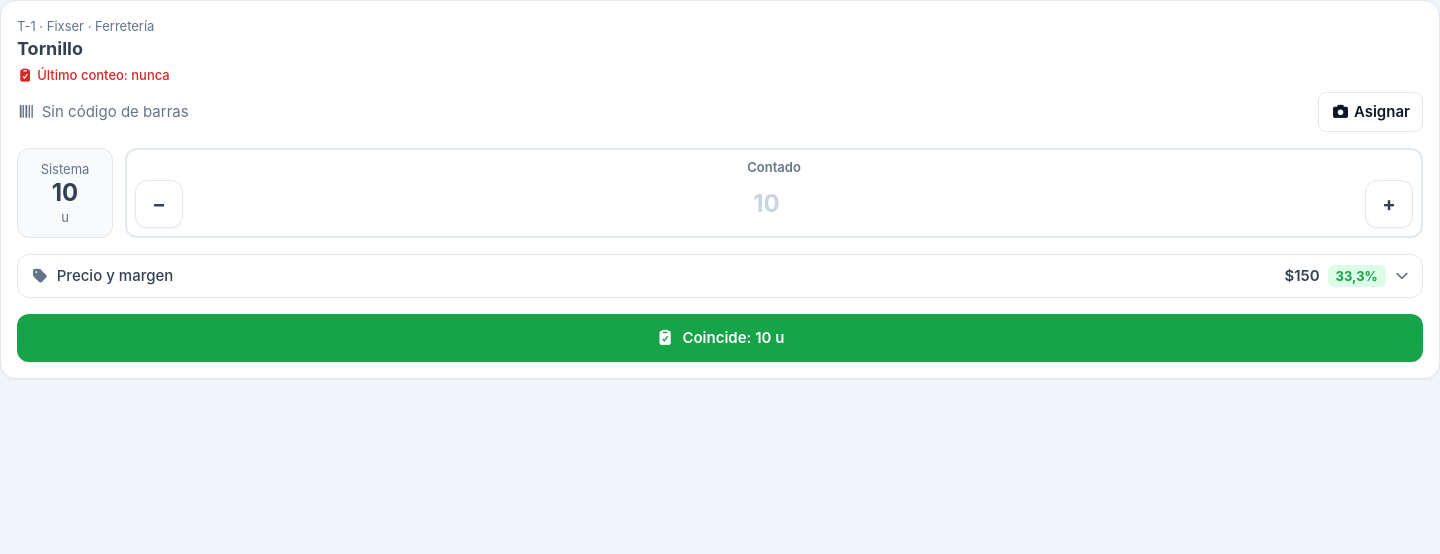
Test case: components/ProductoCard › guardar() › después de guardar el precio, muestra lo que persistió el backend y deja de haber cambios
This screenshot has width=1440, height=554.
Click the button "Precio y margen $150 33,3%" at (115, 276), box [18, 255, 1422, 297]
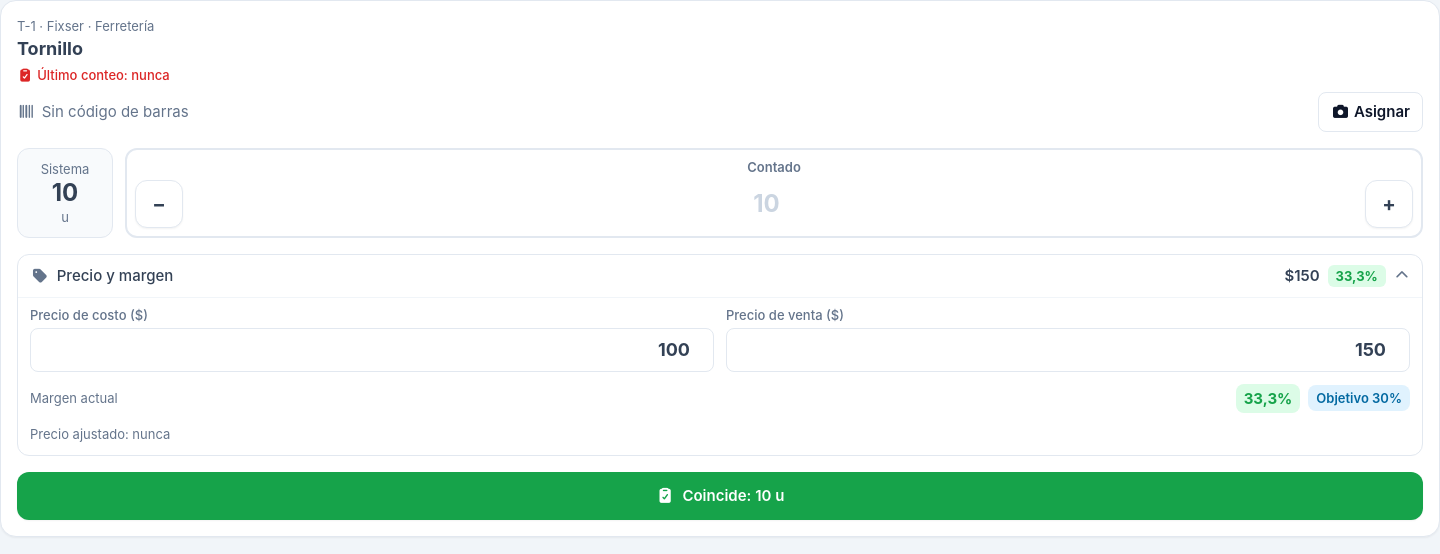
Replace the text in the number field named "Precio de venta" with "180" at (1068, 350), box [726, 328, 1410, 372]
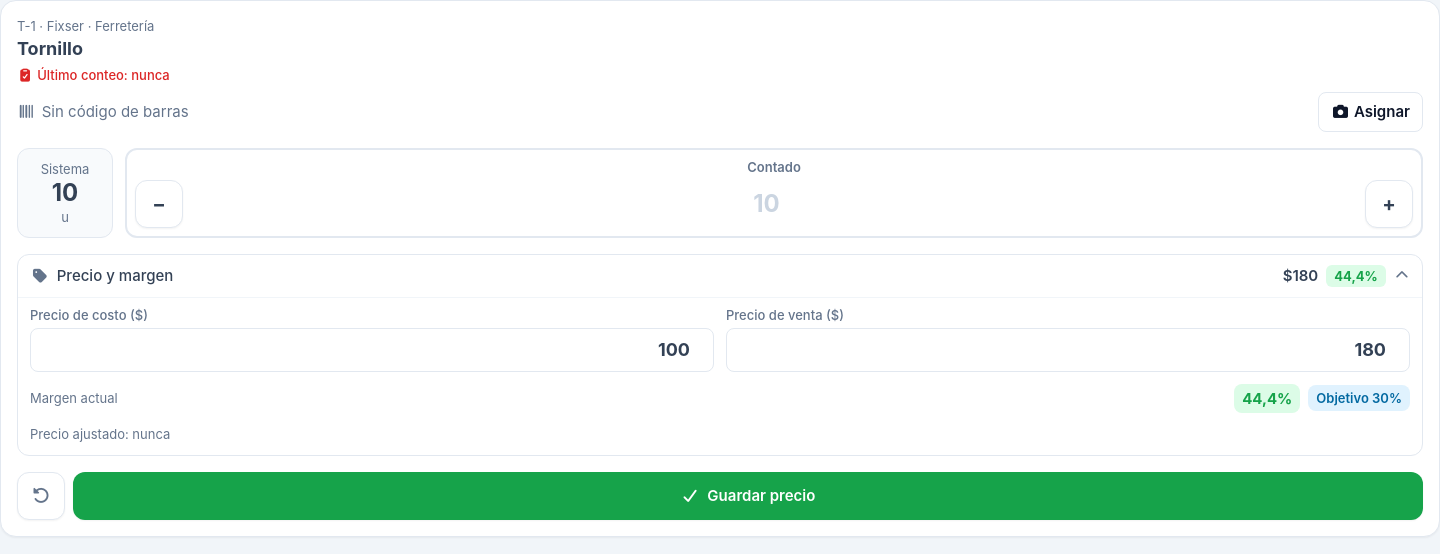
Click the button "Guardar precio" at (748, 496), box [73, 472, 1423, 520]
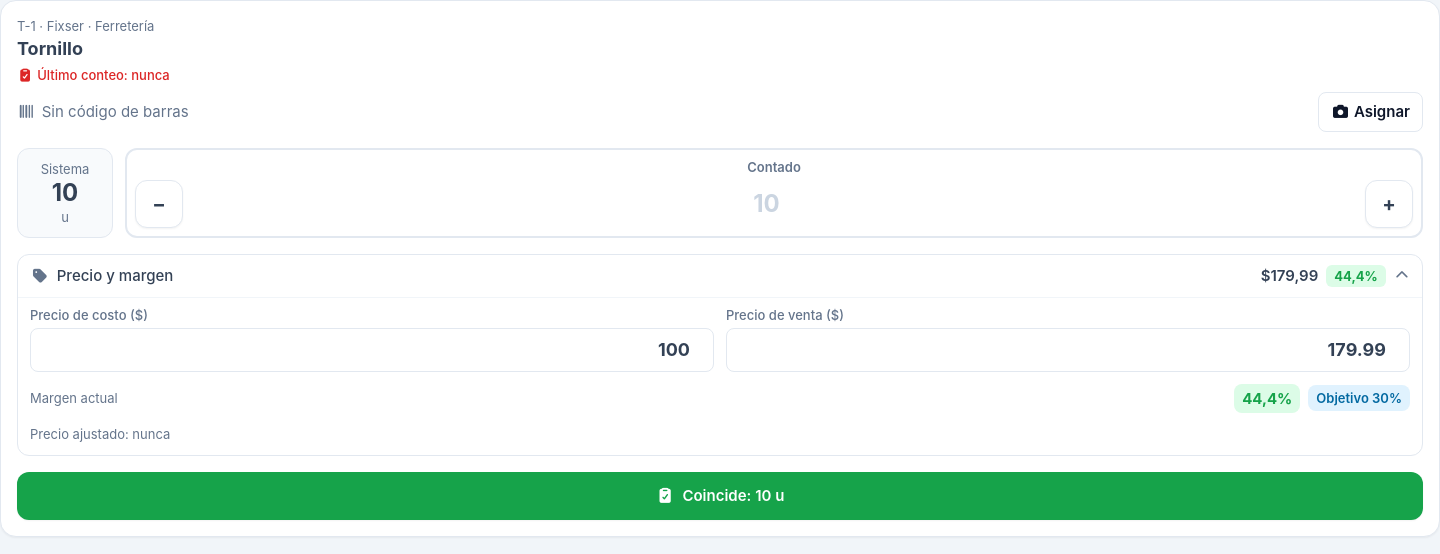
Expected: the number field named "Precio de venta" holds "179.99", [726, 328, 1410, 372]
Expected: the button "Coincide: 10 u" is shown, [17, 472, 1423, 520]
